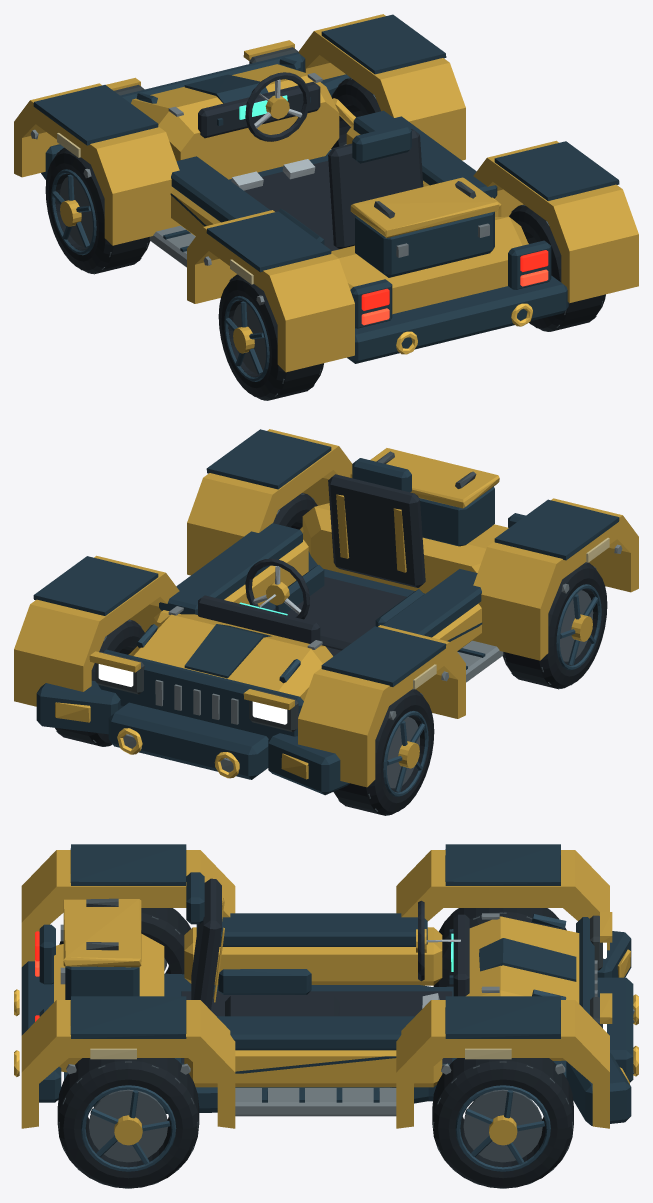
The model's file is bulwark_lod0.glb.
3 views of the same model, one above another, from view 1: azimuth 30°, elevation 25°; view 2: azimuth 150°, elevation 25°; view 3: azimuth 270°, elevation 25° (orthographic). The views are drawn at different scales.
Visible parts, largest first — view 1: body_mesh, wheel_fl, wheel_rl, wheel_rr, steering_wheel, wheel_fr, light_brake_mesh, light_tail_mesh; view 2: body_mesh, wheel_rl, wheel_fl, steering_wheel, wheel_fr, light_head_mesh, wheel_rr; view 3: body_mesh, wheel_rr, wheel_fr, wheel_rl, wheel_fl, steering_wheel.
Part boxes in pixels (left/top/right/bottom): body_mesh: left=14, top=14, right=638, bottom=372; wheel_fl: left=45, top=147, right=150, bottom=274; wheel_rl: left=218, top=274, right=323, bottom=400; wheel_rr: left=509, top=204, right=605, bottom=331; steering_wheel: left=245, top=72, right=310, bottom=141; wheel_fr: left=331, top=78, right=380, bottom=149; light_brake_mesh: left=361, top=250, right=548, bottom=310; light_tail_mesh: left=361, top=269, right=548, bottom=325; body_mesh: left=14, top=429, right=638, bottom=795; wheel_rl: left=502, top=562, right=607, bottom=689; wheel_fl: left=333, top=689, right=434, bottom=815; steering_wheel: left=245, top=558, right=309, bottom=619; wheel_fr: left=55, top=619, right=144, bottom=746; light_head_mesh: left=98, top=664, right=287, bottom=724; wheel_rr: left=273, top=493, right=317, bottom=529; body_mesh: left=14, top=844, right=638, bottom=1128; wheel_rr: left=57, top=1058, right=199, bottom=1188; wheel_fr: left=432, top=1058, right=573, bottom=1188; wheel_rl: left=59, top=908, right=190, bottom=974; wheel_fl: left=433, top=908, right=566, bottom=986; steering_wheel: left=416, top=900, right=426, bottom=981.
Size of the model in its own units: 1.82 by 0.98 by 2.52.
